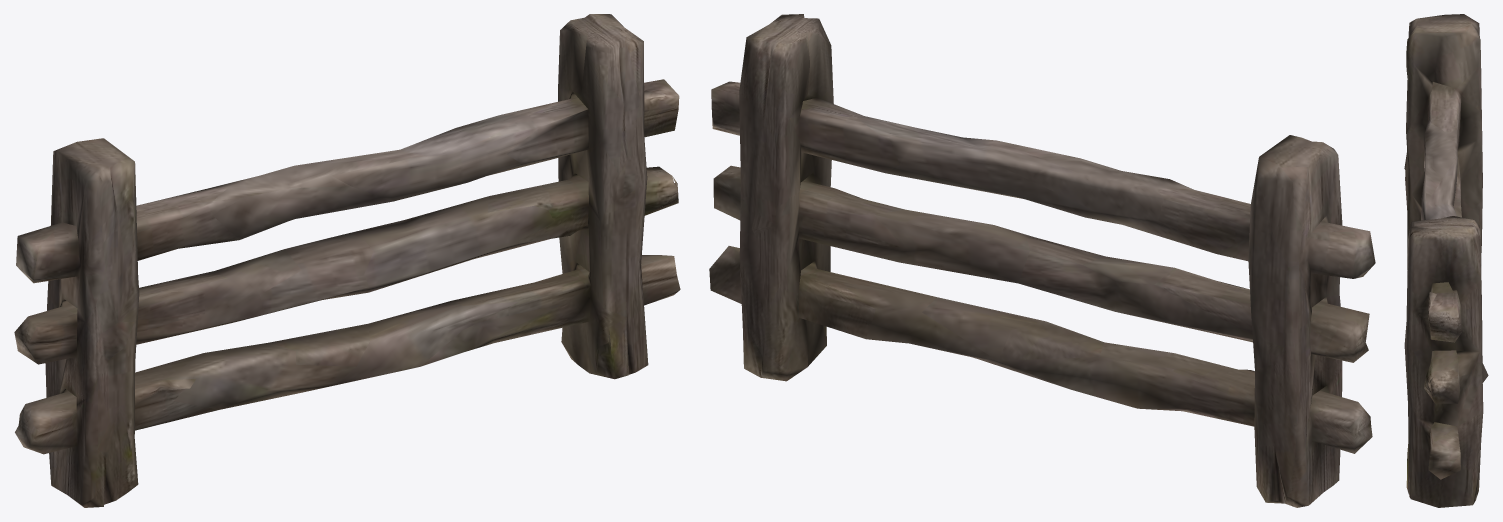
File: wood_fence.glb
3 views of the same model, side by side, from view 1: azimuth 30°, elevation 25°; view 2: azimuth 150°, elevation 25°; view 3: azimuth 270°, elevation 25° (orthographic). The views are drawn at different scales.
Visible parts, largest first — view 1: tripo_node_54a7ff97-0fdf-403e-927c-4d9d9d01f01b; view 2: tripo_node_54a7ff97-0fdf-403e-927c-4d9d9d01f01b; view 3: tripo_node_54a7ff97-0fdf-403e-927c-4d9d9d01f01b.
Boxes of the visible parts, x1,y1,x2,y2 form: tripo_node_54a7ff97-0fdf-403e-927c-4d9d9d01f01b: (14,14,680,507); tripo_node_54a7ff97-0fdf-403e-927c-4d9d9d01f01b: (709,14,1375,507); tripo_node_54a7ff97-0fdf-403e-927c-4d9d9d01f01b: (1404,14,1488,507).
Bounding box in the file's own units: 0.9781 × 0.4883 × 0.1353.
Materials: 1 (1 with a texture image).
